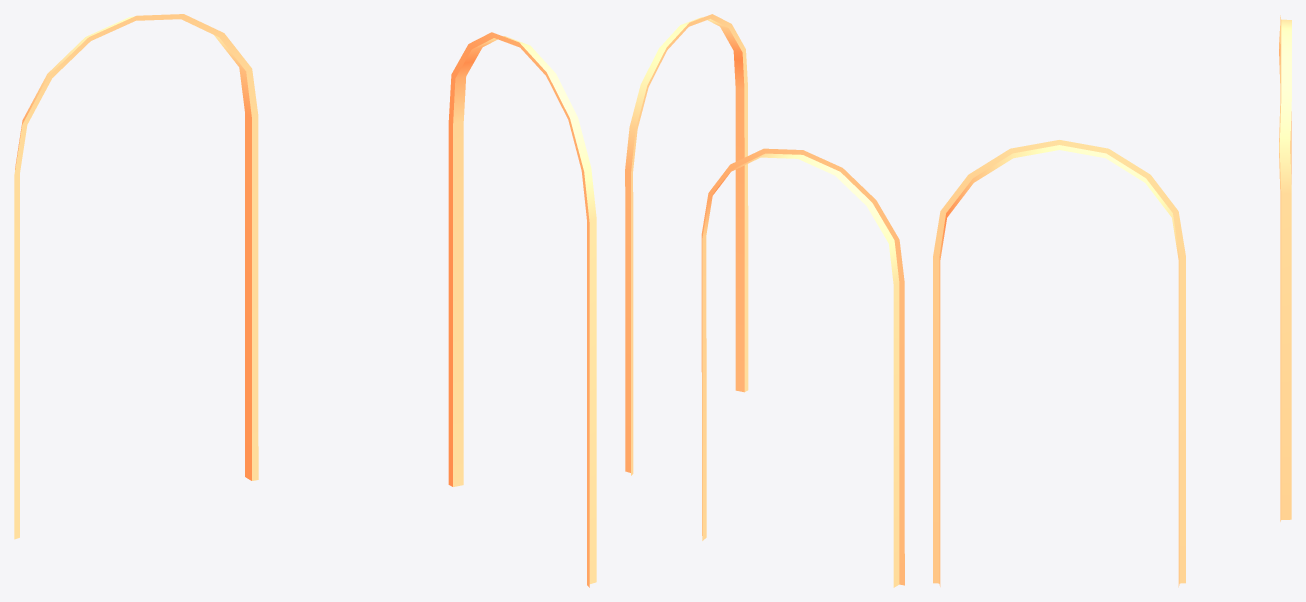
Rendered from mod_sc_tdm_rome_099_e.FBX.
3 renders of one model, left to right at view 1: azimuth 30°, elevation 25°; view 2: azimuth 150°, elevation 25°; view 3: azimuth 270°, elevation 25°, orthographic. The views are drawn at different scales.
Visible parts, largest first — view 1: mod_sc_tdm_rome_099_e; view 2: mod_sc_tdm_rome_099_e; view 3: mod_sc_tdm_rome_099_e.
Part boxes in pixels (<box>): mod_sc_tdm_rome_099_e: <box>14,14,596,587</box>; mod_sc_tdm_rome_099_e: <box>625,14,904,587</box>; mod_sc_tdm_rome_099_e: <box>933,15,1291,587</box>.
Bounding box in the file's own units: 530 × 467 × 636.
